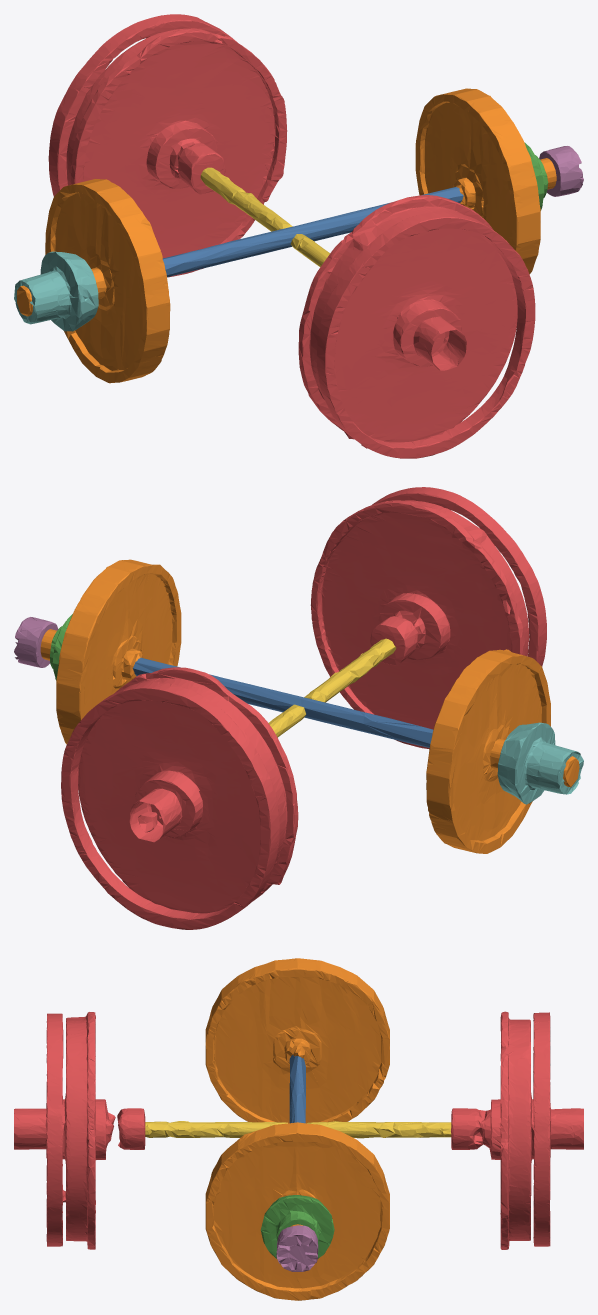
The model's file is dumbbell_partcrafter_exploded.glb.
The picture shows the model from 3 angles, top to bottom: view 1: azimuth 30°, elevation 25°; view 2: azimuth 150°, elevation 25°; view 3: azimuth 270°, elevation 25°; orthographic projection. The views are drawn at different scales.
Parts seen in each view (by area): view 1: part_02, part_01, part_03, part_00, part_05, part_06; view 2: part_02, part_01, part_03, part_00, part_05, part_06; view 3: part_01, part_02, part_05, part_04, part_06, part_00.
Part boxes in pixels (bbox=[...]): part_02: bbox=[48, 14, 535, 458]; part_01: bbox=[16, 88, 556, 383]; part_03: bbox=[14, 251, 98, 331]; part_00: bbox=[162, 187, 463, 277]; part_05: bbox=[200, 167, 330, 266]; part_06: bbox=[539, 146, 583, 196]; part_02: bbox=[61, 487, 546, 929]; part_01: bbox=[40, 559, 579, 853]; part_03: bbox=[497, 722, 583, 804]; part_00: bbox=[132, 657, 433, 747]; part_05: bbox=[268, 638, 396, 737]; part_06: bbox=[14, 617, 58, 667]; part_01: bbox=[205, 958, 389, 1300]; part_02: bbox=[14, 1011, 583, 1249]; part_05: bbox=[145, 1121, 451, 1138]; part_04: bbox=[260, 1195, 334, 1258]; part_06: bbox=[276, 1225, 318, 1271]; part_00: bbox=[289, 1055, 305, 1123].
Size of the model in its own units: 1.01 by 0.4266 by 1.
